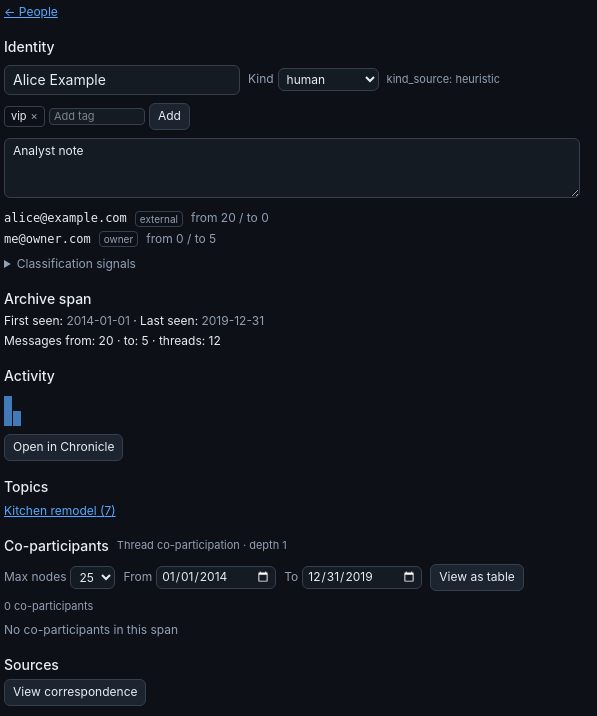
Test: PersonProfilePage › renders profile sections from mocked card incl. signals and owner badges
Expected: the element with test id "person-identity" is shown, top-left (4, 38), bottom-right (580, 271)
Expected: the element with test id "person-span" shows "threads: 12", top-left (4, 290), bottom-right (264, 348)
# Expand signals details
Click the heading "Classification signals" at (76,263), box top-left (17, 256), bottom-right (136, 271)
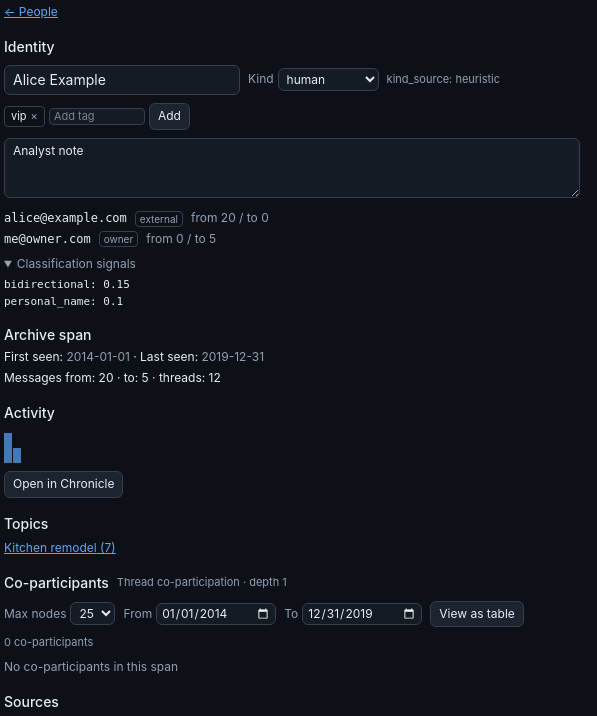
Expected: the element with test id "person-signals" shows "bidirectional", top-left (4, 278), bottom-right (90, 291)
Expected: the element with test id "person-signals" shows "0.15", top-left (103, 278), bottom-right (130, 291)
